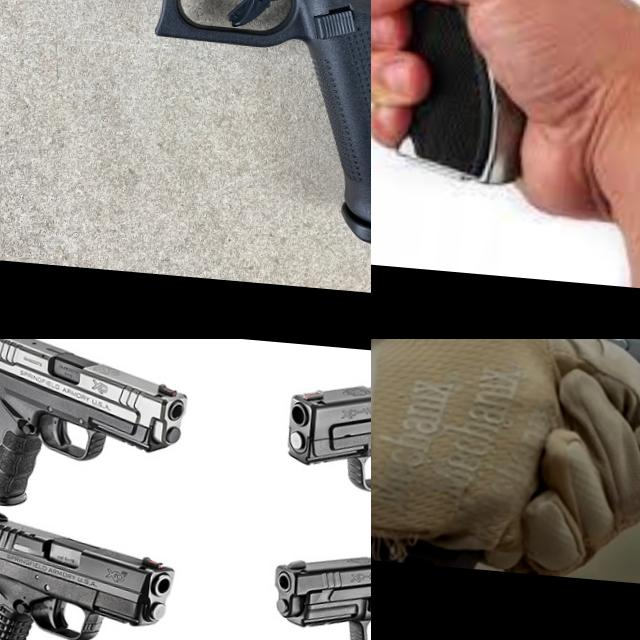handgun: (0, 0, 371, 261), (0, 339, 197, 522), (371, 339, 640, 466), (371, 0, 598, 123), (0, 503, 181, 640), (278, 342, 371, 539), (260, 522, 371, 640)
